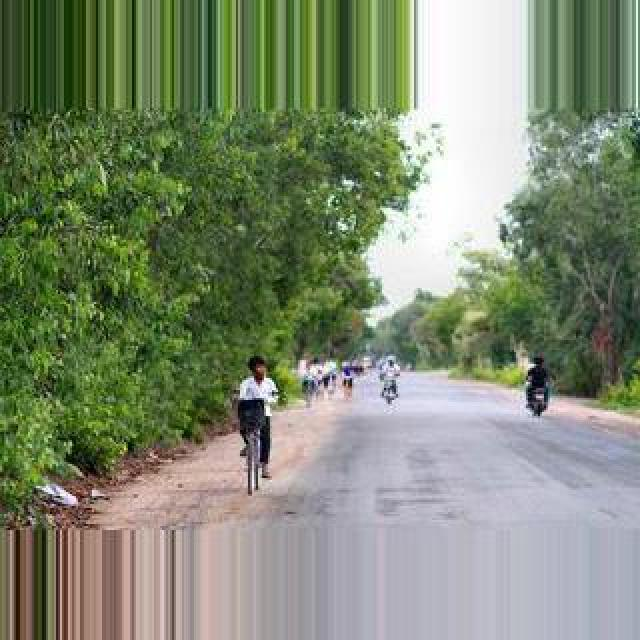MC-Bike: (238, 356, 278, 482), (524, 354, 552, 414)
Person: (240, 422, 268, 494), (526, 384, 550, 418)
